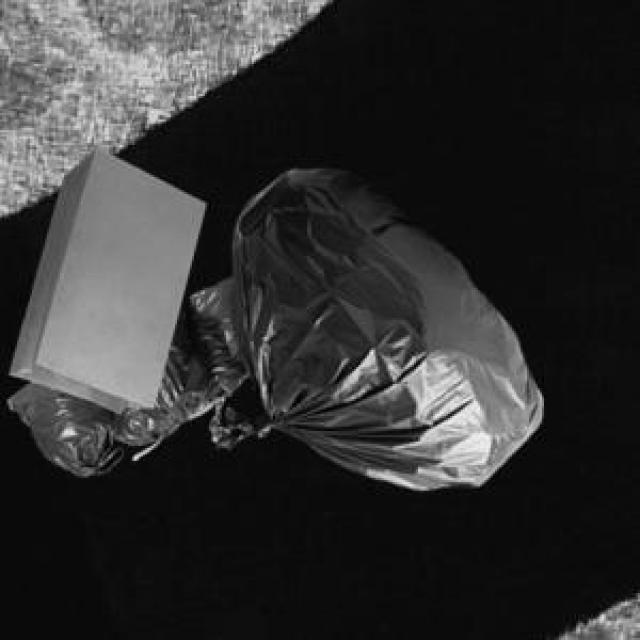miscellaneous trash: (207, 164, 538, 486), (4, 273, 243, 472)
paper: (6, 145, 201, 410)
